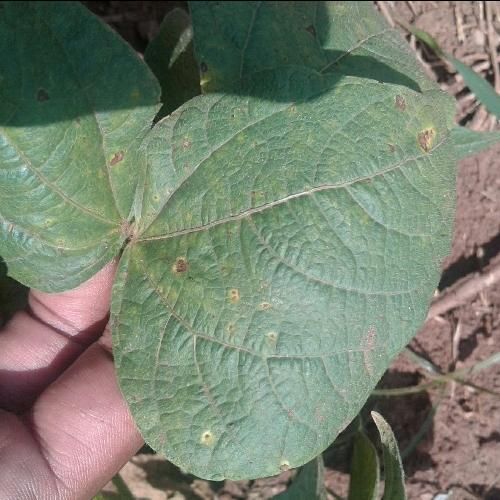hawar: (161, 254, 310, 486), (8, 0, 166, 196), (296, 71, 465, 203)
